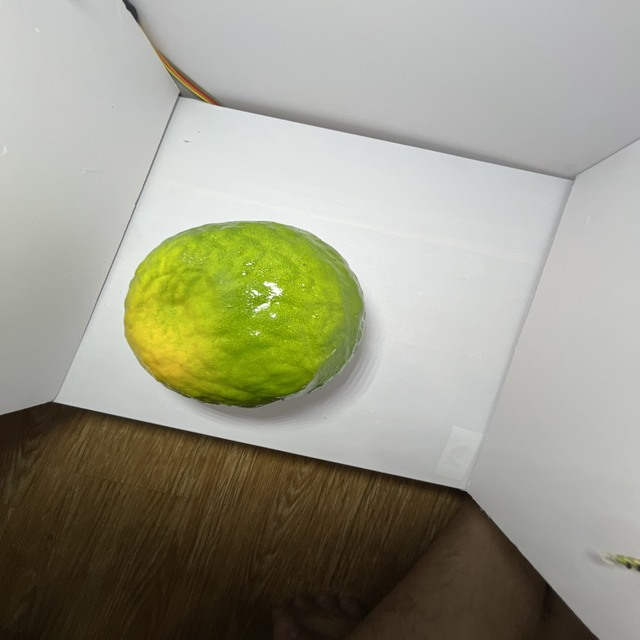Cam xanh: (120, 218, 375, 416)
